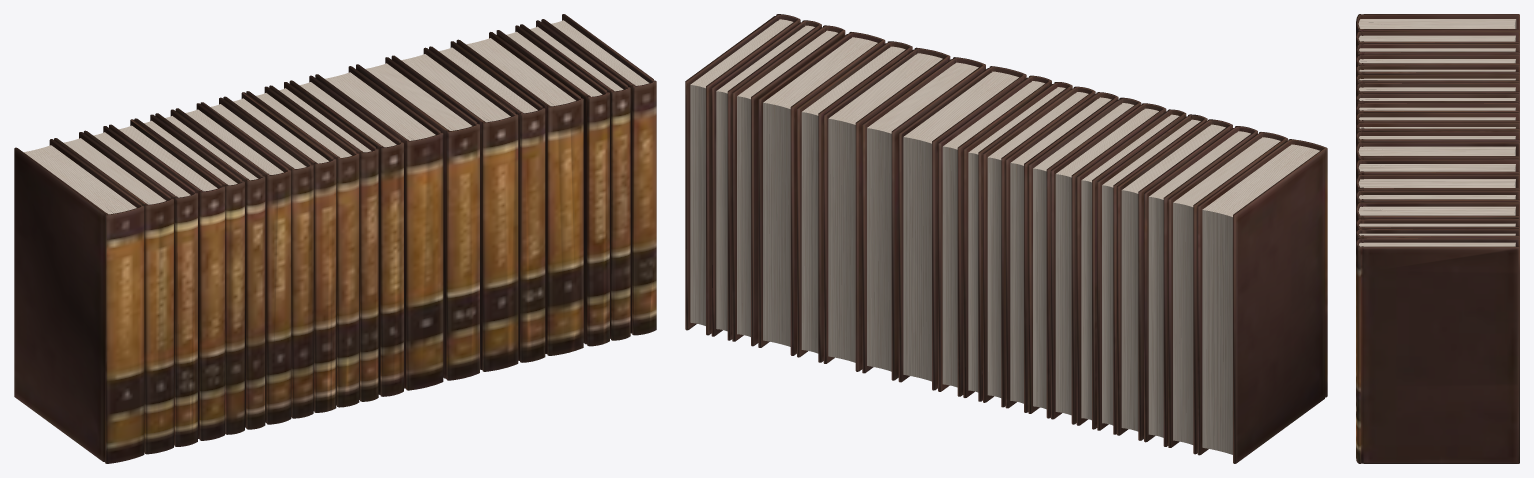
The model's file is book_encyclopedia_set_01.glb.
3 renders of one model, left to right at view 1: azimuth 30°, elevation 25°; view 2: azimuth 150°, elevation 25°; view 3: azimuth 270°, elevation 25°, orthographic. The views are drawn at different scales.
Parts seen in each view (by area): view 1: book_encyclopedia_set_01_book01; view 2: book_encyclopedia_set_01_book01; view 3: book_encyclopedia_set_01_book01.
Boxes of the visible parts, bbox=[...] form: book_encyclopedia_set_01_book01: bbox=[14, 14, 656, 463]; book_encyclopedia_set_01_book01: bbox=[685, 14, 1327, 463]; book_encyclopedia_set_01_book01: bbox=[1356, 14, 1519, 463].
Bounding box in the file's own units: 0.5513 × 0.2374 × 0.1631.
2 materials, 2 textured.
